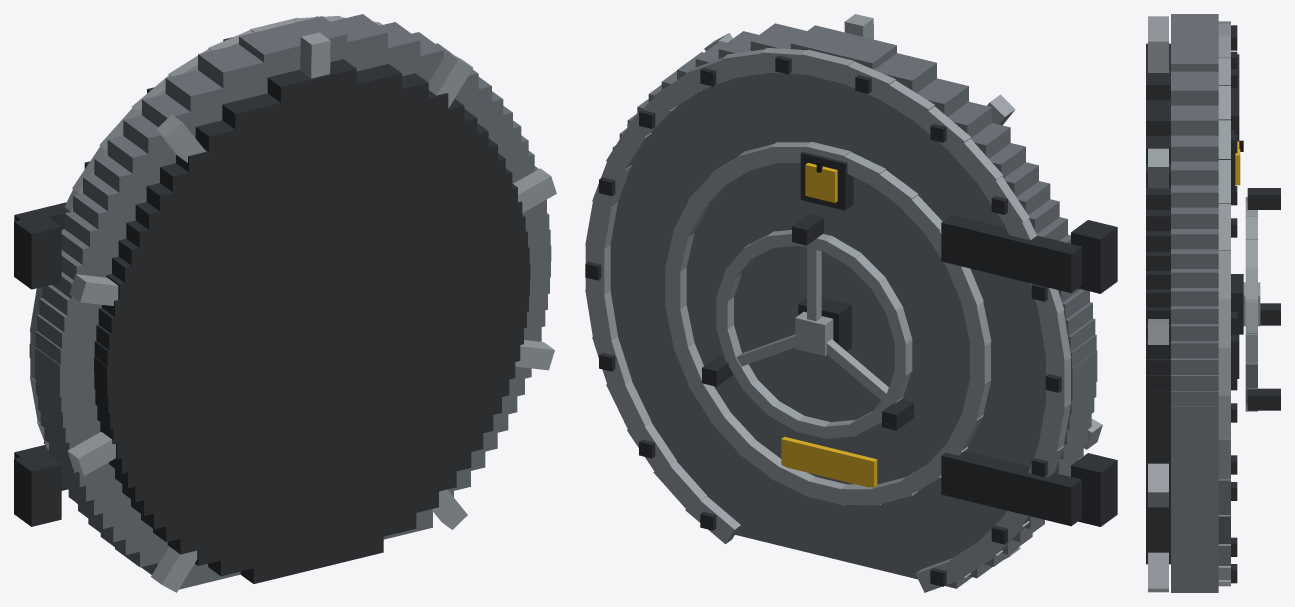
Rendered from vault_door.glb.
3 views of the same model, side by side, from view 1: azimuth 30°, elevation 25°; view 2: azimuth 150°, elevation 25°; view 3: azimuth 270°, elevation 25° (orthographic). The views are drawn at different scales.
Visible parts, largest first — view 1: vault_door; view 2: vault_door; view 3: vault_door.
Boxes of the visible parts, left/top/right/bottom form: vault_door: left=14, top=14, right=556, bottom=592; vault_door: left=585, top=14, right=1117, bottom=592; vault_door: left=1146, top=14, right=1280, bottom=592.
Bounding box in the file's own units: 2.73 × 2.68 × 0.65.
Materials: 5 (5 with a texture image).
